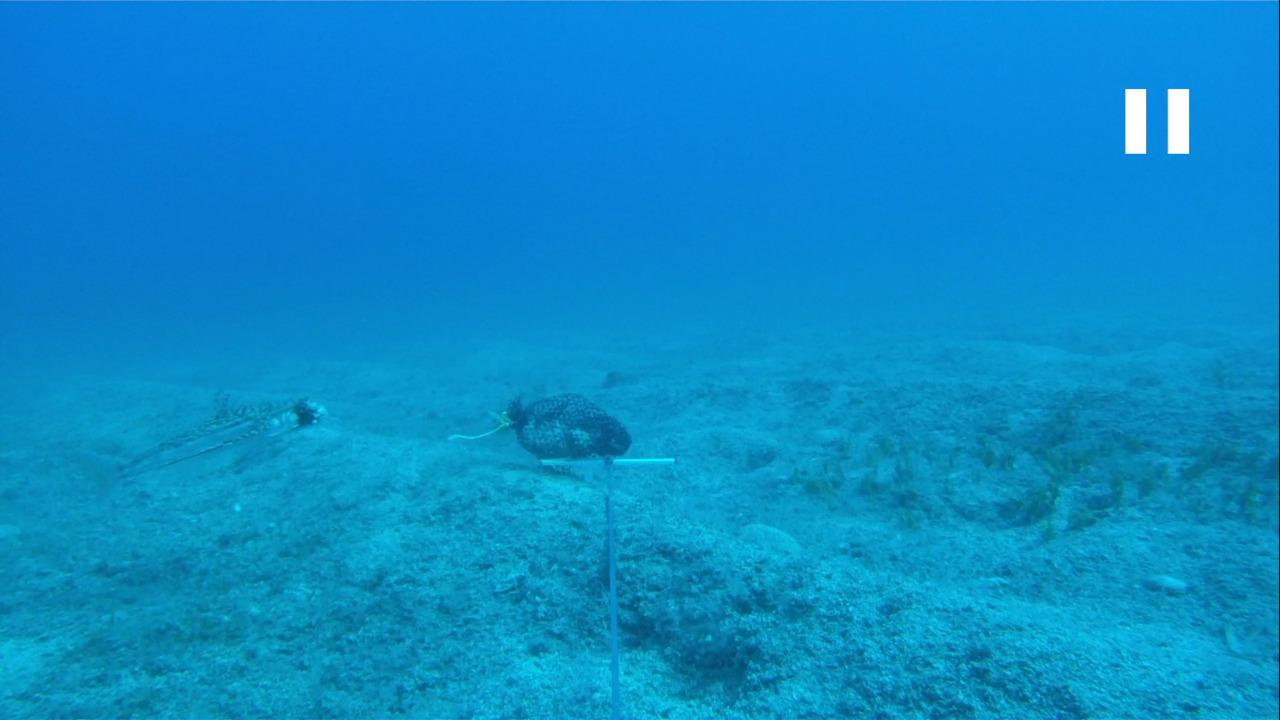dactylopterus: (65, 386, 333, 524)
